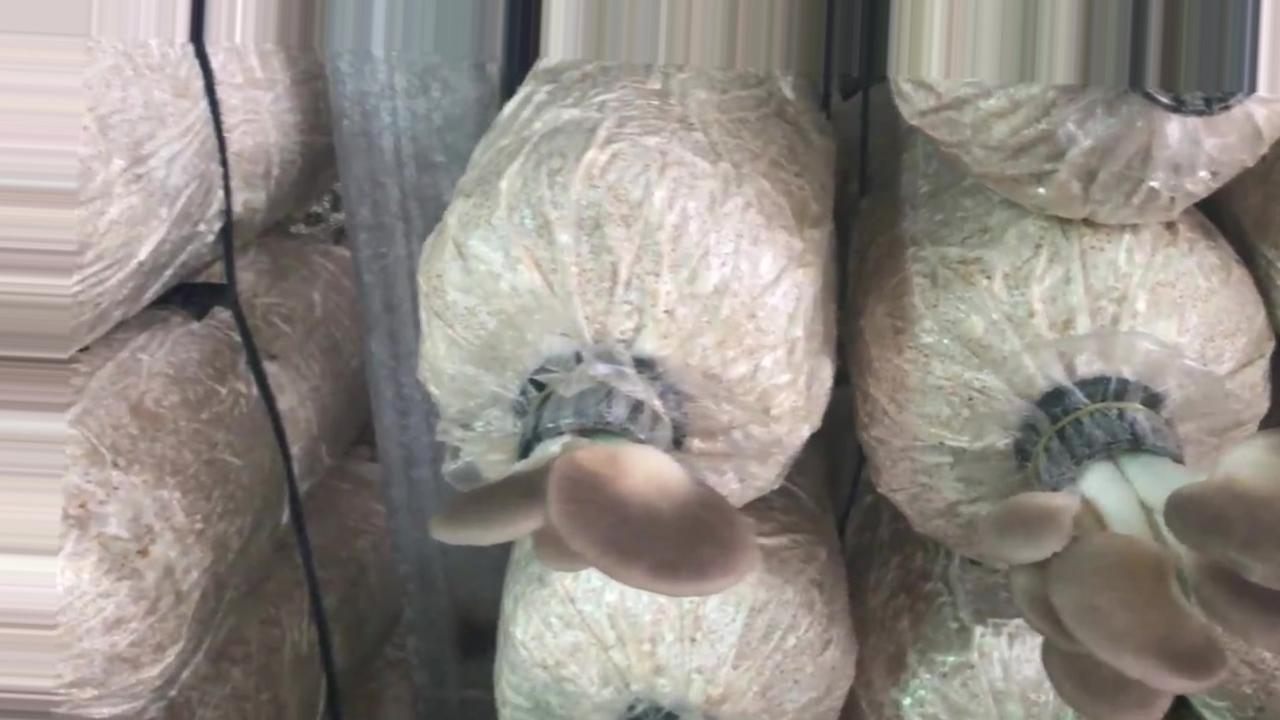nam: (971, 399, 1280, 718), (428, 359, 760, 598)
